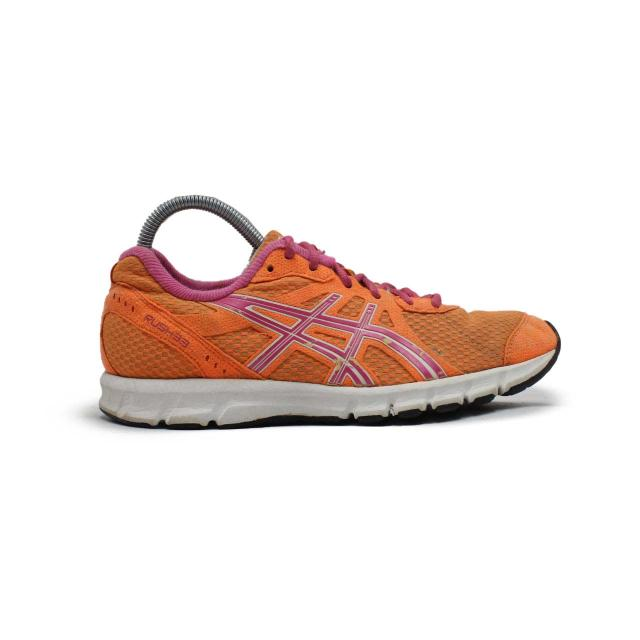heel: (92, 251, 148, 371)
midsole: (98, 342, 564, 432)
uppersole: (142, 230, 559, 381)
